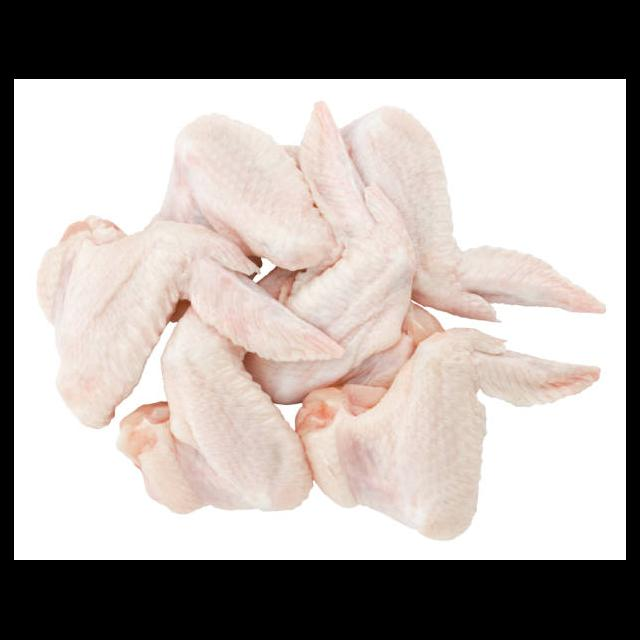chicken: (36, 98, 606, 540)
